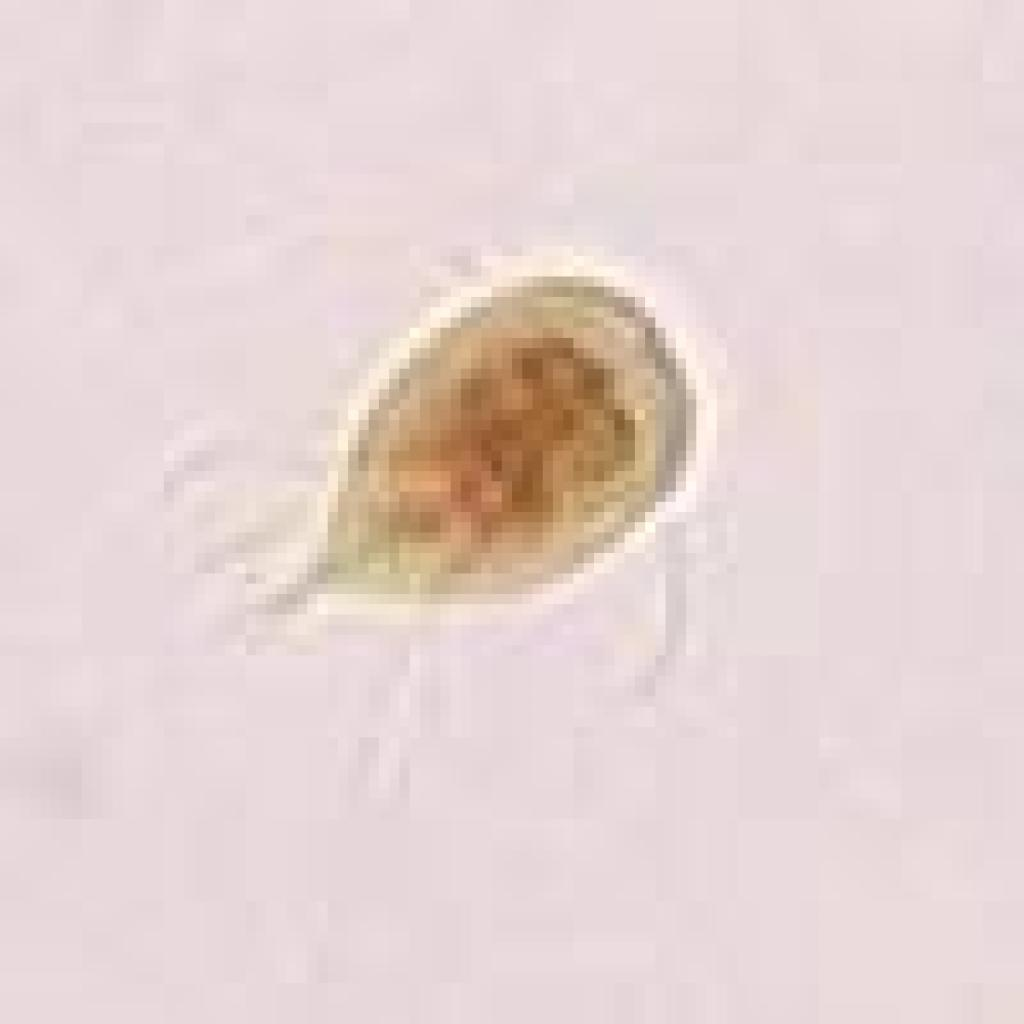Giardia: (204, 246, 706, 686)
